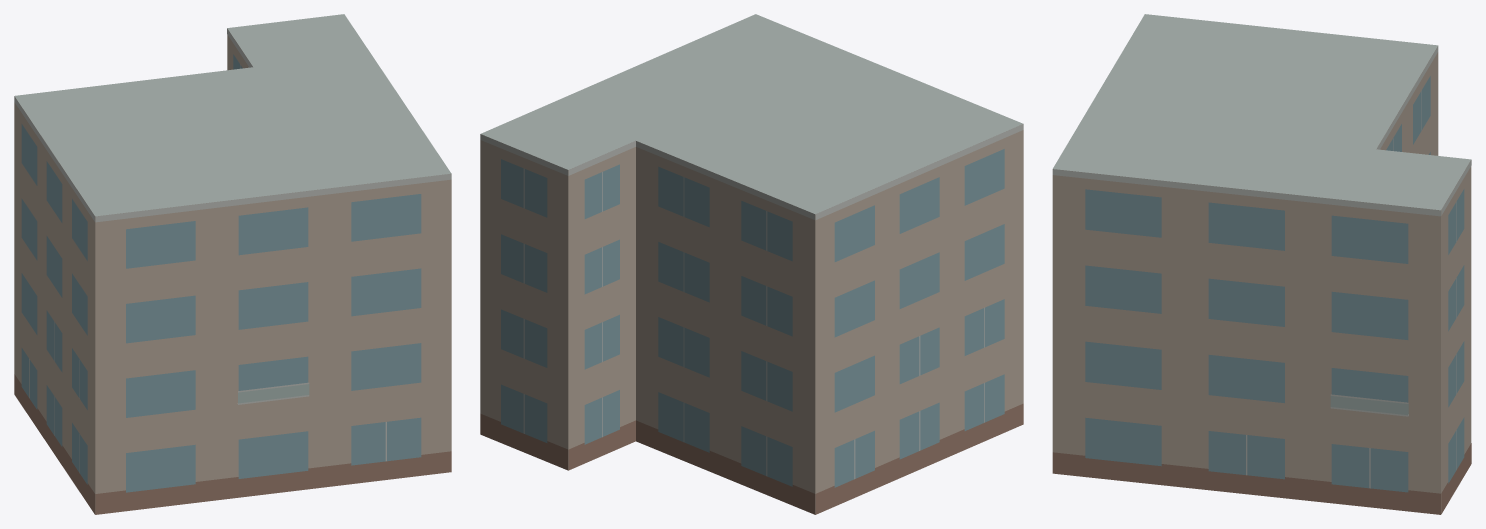
Rendered from residential-2a43a3b2-658b-4796-a5f5-c22a05b1d7ef.glb.
The picture shows the model from 3 angles, left to right: view 1: azimuth 30°, elevation 25°; view 2: azimuth 150°, elevation 25°; view 3: azimuth 270°, elevation 25°; orthographic projection. The views are drawn at different scales.
Visible parts, largest first — view 1: residential-2a43a3b2-658b-4796-a5f5-c22a05b1d7ef.tmp; view 2: residential-2a43a3b2-658b-4796-a5f5-c22a05b1d7ef.tmp; view 3: residential-2a43a3b2-658b-4796-a5f5-c22a05b1d7ef.tmp.
Boxes of the visible parts, left/top/right/bottom form: residential-2a43a3b2-658b-4796-a5f5-c22a05b1d7ef.tmp: left=14, top=14, right=451, bottom=514; residential-2a43a3b2-658b-4796-a5f5-c22a05b1d7ef.tmp: left=480, top=14, right=1023, bottom=514; residential-2a43a3b2-658b-4796-a5f5-c22a05b1d7ef.tmp: left=1052, top=14, right=1471, bottom=514.
Bounding box in the file's own units: 16.88 × 12.2 × 15.22.
